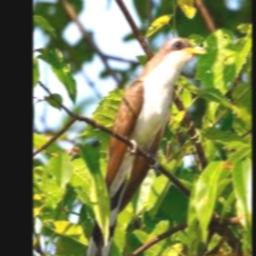Cuckoo: (83, 37, 207, 256)
